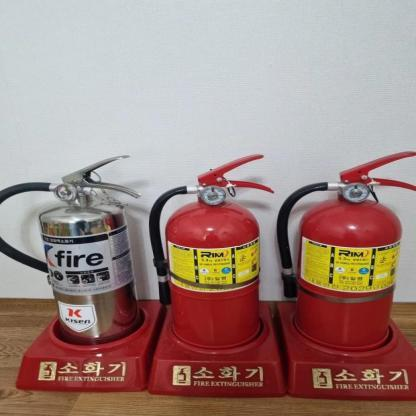Fire Extinguisher: (0, 132, 143, 352), (281, 143, 416, 367), (151, 132, 274, 357)
